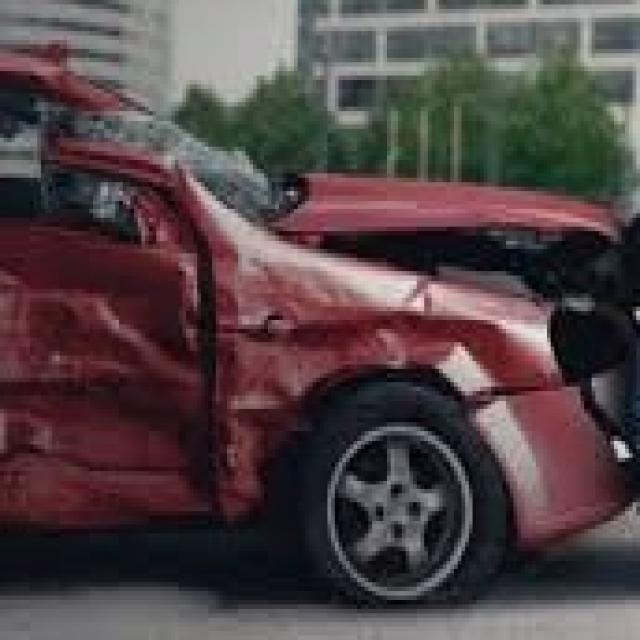severe: (0, 16, 468, 598)
